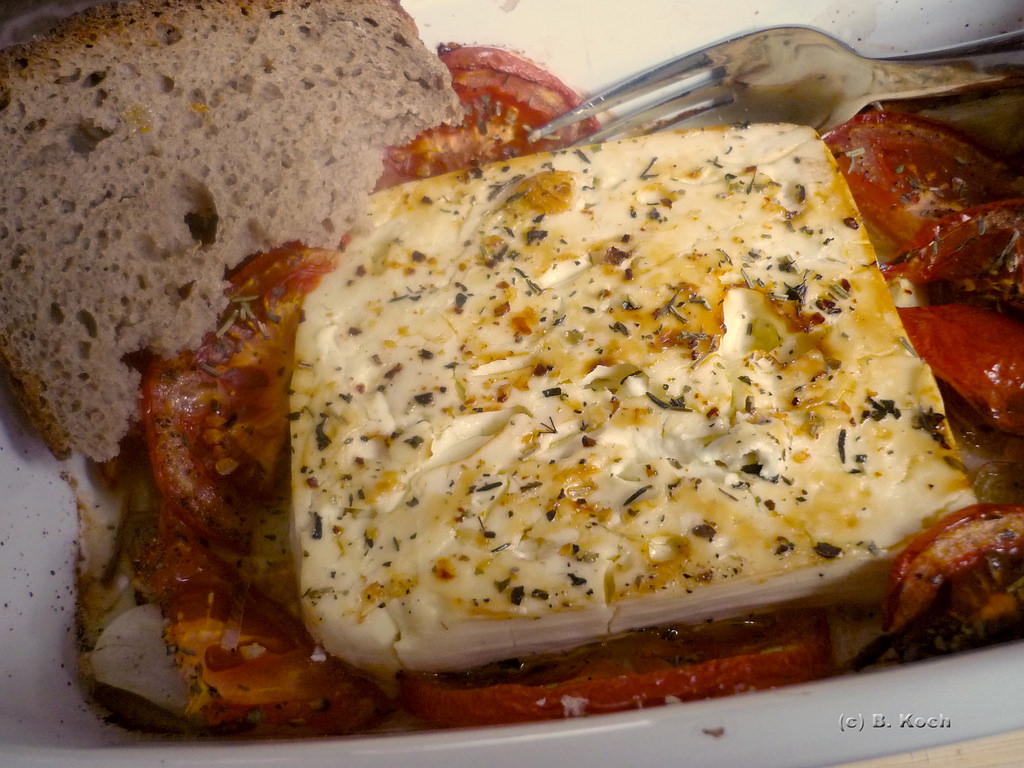slice of bread: (11, 6, 468, 454)
